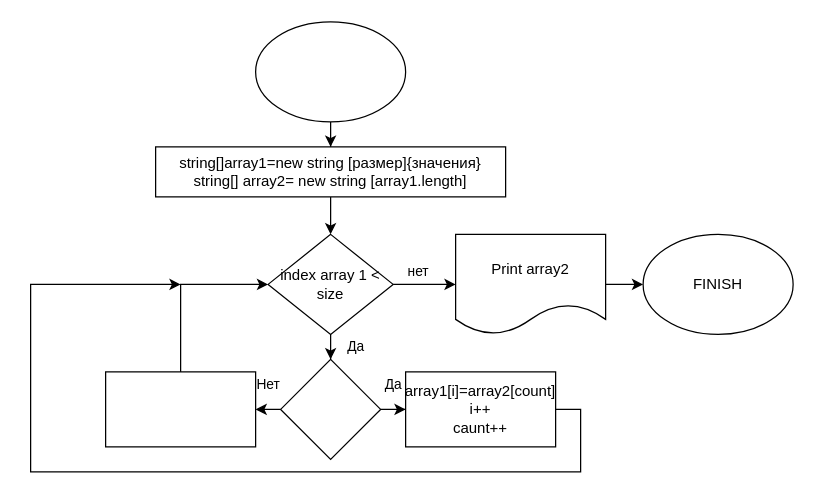
This 815x504 diagram has some shape labels left out. Each missing label, with the centre of its shape:
array1[i]<=3: the point at 330,408
i++: the point at 180,409
START: the point at 330,71
